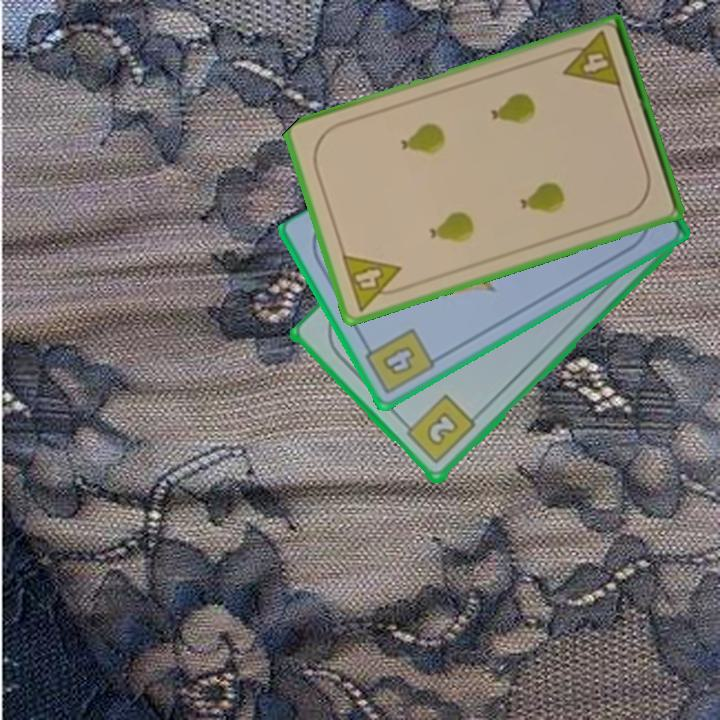2b: (398, 392, 479, 468)
4b: (359, 325, 438, 398)
4p: (338, 251, 410, 314), (555, 28, 625, 91)
